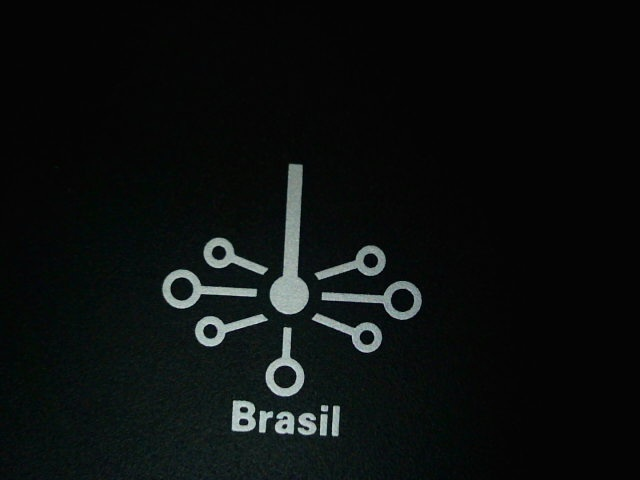BG_Brasil: (102, 145, 447, 449)
